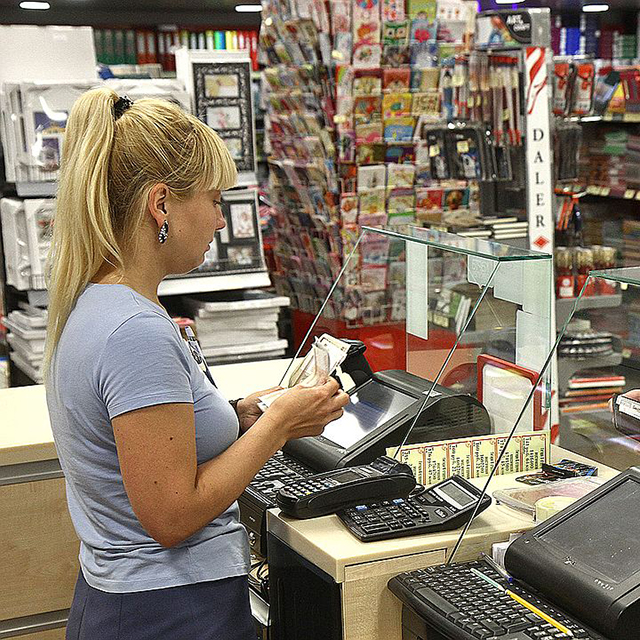banknotes: (258, 335, 349, 418)
